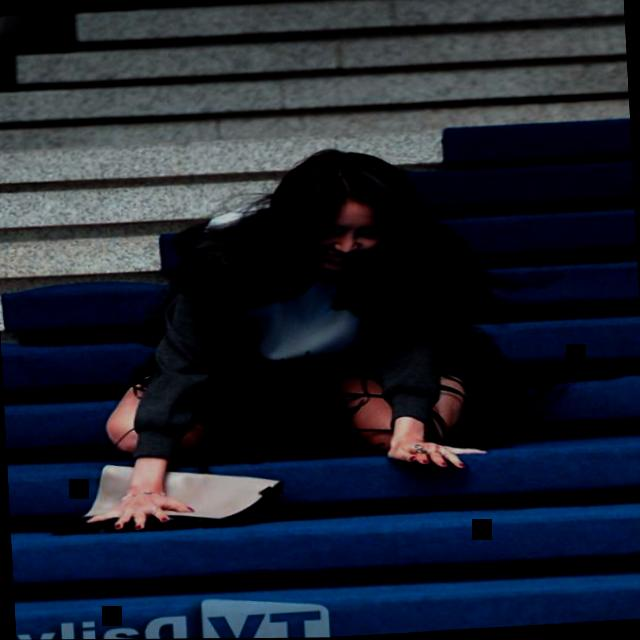Fall-Detected: (59, 110, 616, 536)
